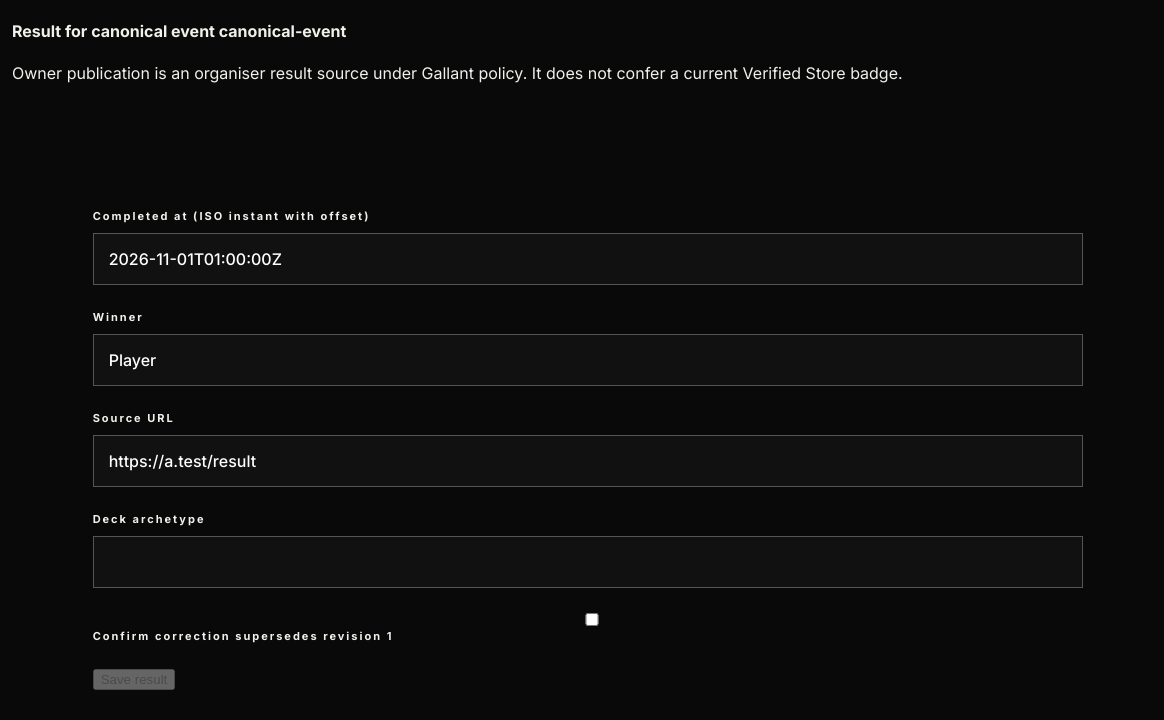
requires explicit supersession and uses canonical event/result IDs
Check: the field showing "Player" is shown, box [93,334,1083,386]
Check: the button "Save result" is disabled, box [93,668,175,690]
Step 1. Click the checkbox labelled "Confirm correction supersedes revision 1" → (592, 619), box [97,612,1087,626]
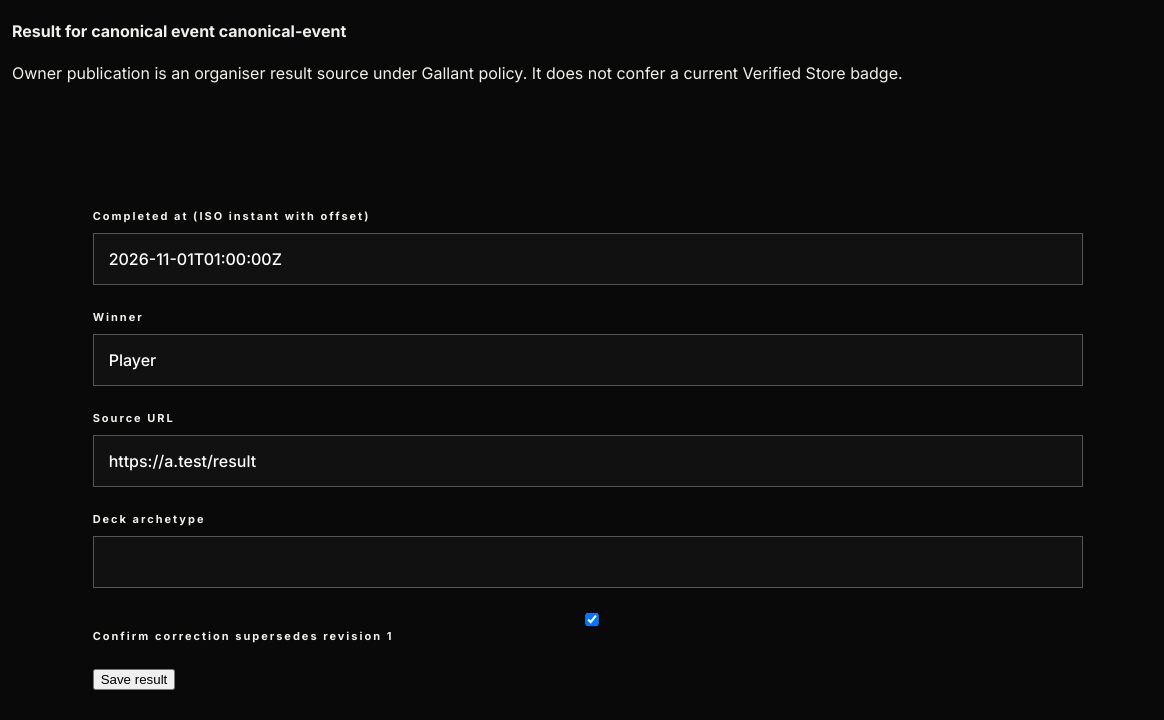
Step 2. Replace the text in the field labelled "Winner" with "Corrected" → (588, 360), box [93,334,1083,386]
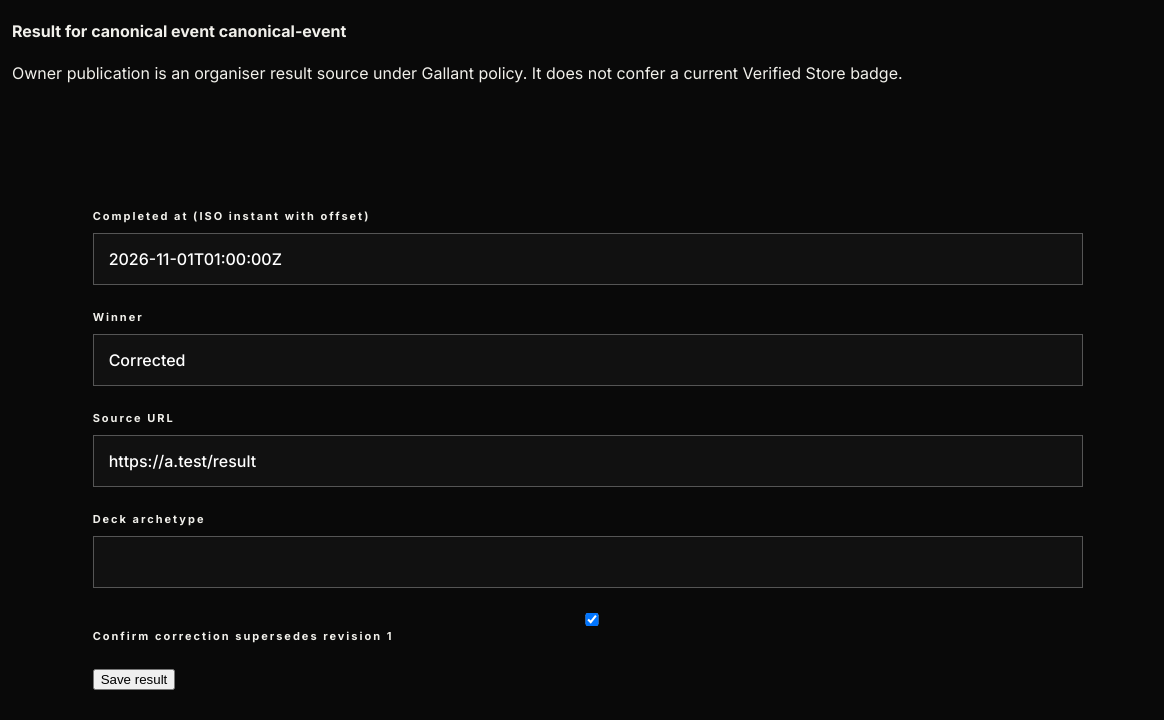
Step 3. Click the button "Save result" → (134, 679), box [93,668,175,690]
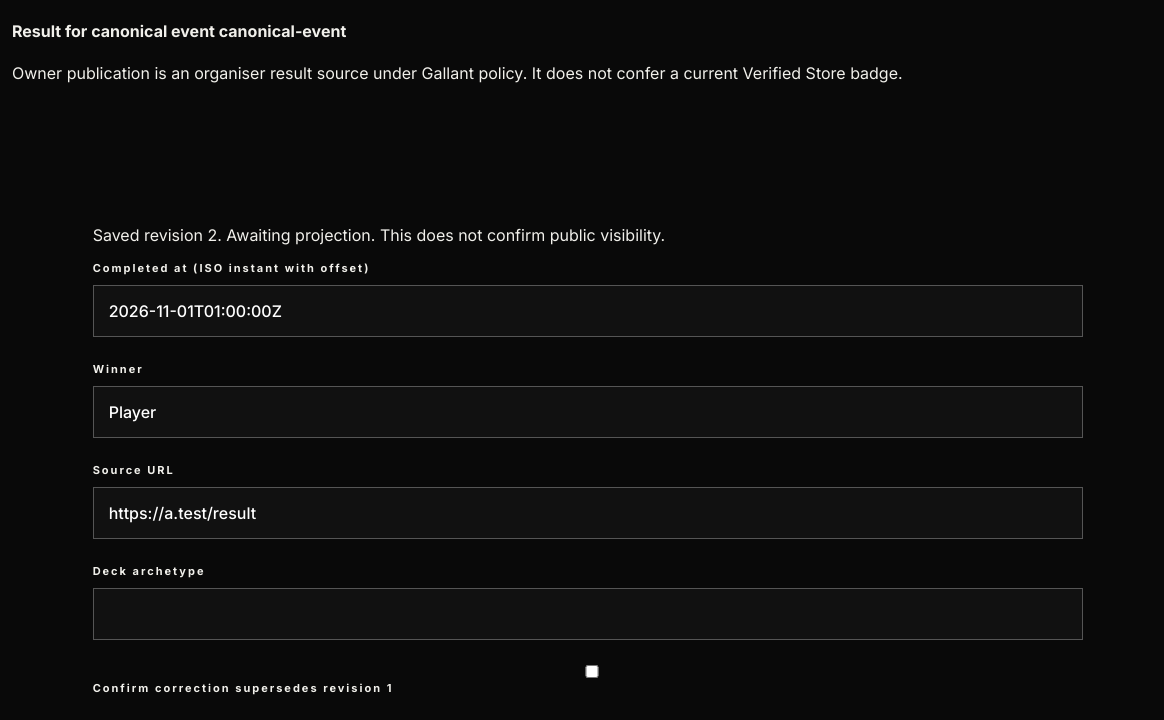
Check: the text "Saved revision 2" is shown, box [93,224,665,244]
